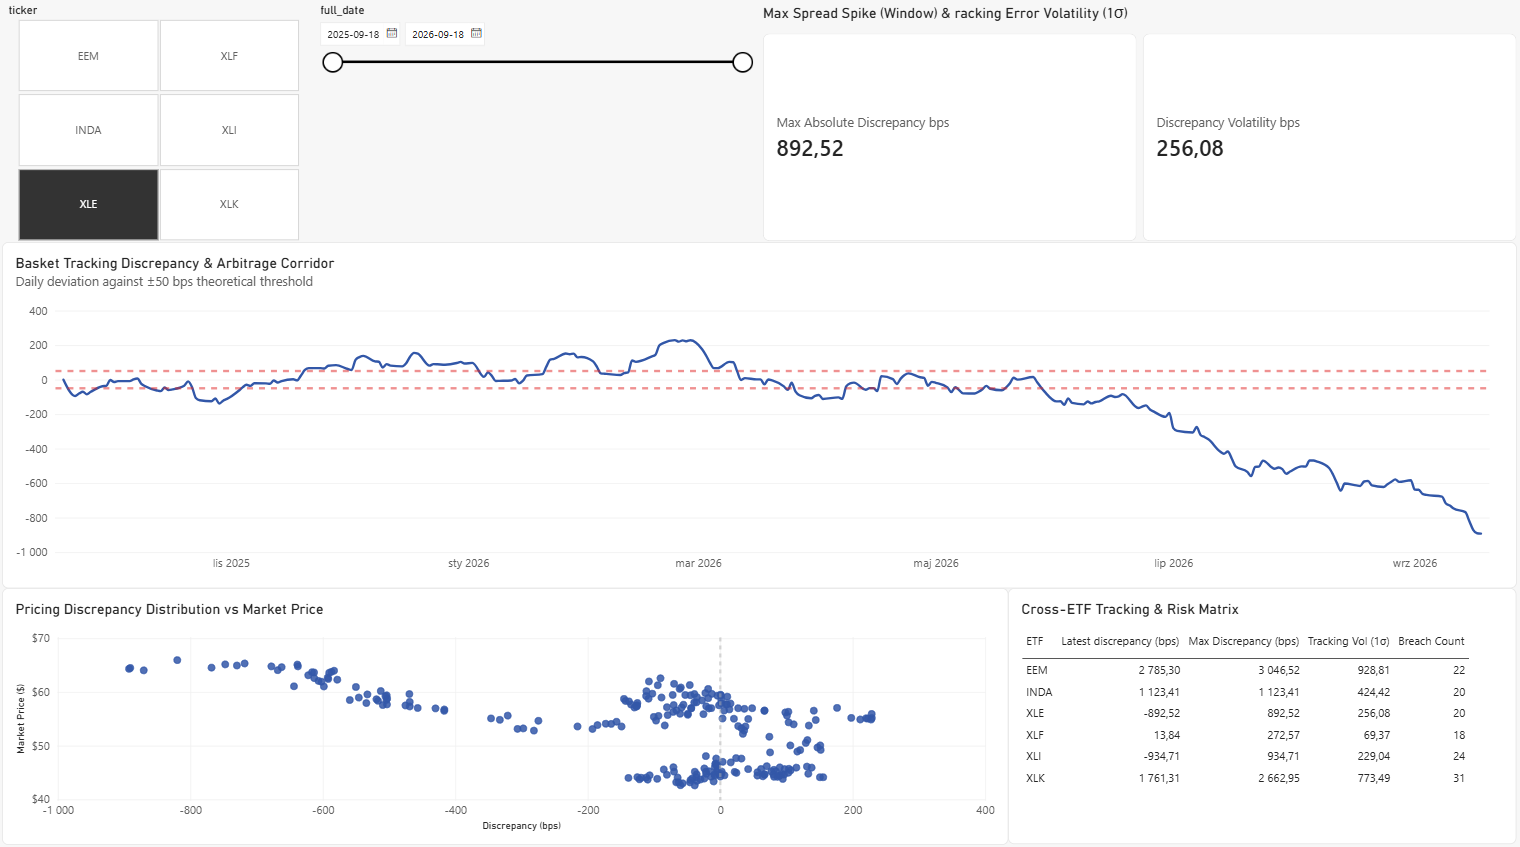

The page's visual inventory and layout, read from the dashboard file:
{"tool":"powerbi","page":{"name":"Basket Arbitrage & NAV Discrepancy","canvas":[1920,1080],"ordinal":1},"visuals":[{"type":"slicer","fields":{"Values":["dim_security.ticker"]},"box":[13.3,16,391,297.9],"z":0},{"type":"slicer","fields":{"Values":["dim_date.full_date"]},"box":[404.3,16,556,288.6],"z":1000},{"type":"lineChart","title":"Basket Tracking Discrepancy & Arbitrage Corridor","fields":{"Category":["dim_date.full_date"],"Y":["Avg(view_etf_market_analytics.discrepancy_bps)"]},"box":[13.3,313.9,1898,433.6],"z":2000},{"type":"cardVisual","title":"Max Spread Spike (Window) & racking Error Volatility (1σ)","fields":{"Data":["_Measures.Max Absolute Discrepancy bps","_Measures.Discrepancy Volatility bps"]},"box":[966.9,16,944.3,297.9],"z":3000},{"type":"scatterChart","title":"Pricing Discrepancy Distribution vs Market Price","fields":{"Category":["dim_date.full_date"],"X":["Sum(view_etf_market_analytics.discrepancy_bps)"],"Y":["Sum(view_etf_market_analytics.etf_market_price)"]},"box":[13.3,747.5,1260.9,321.9],"z":3001},{"type":"tableEx","title":"Cross-ETF Tracking & Risk Matrix","fields":{"Values":["dim_security.ticker","_Measures.Current Discrepancy bps","_Measures.Max Absolute Discrepancy bps","_Measures.Discrepancy Volatility bps","_Measures.Anomaly Breach Days"]},"box":[1274.2,747.5,637.1,320.5],"z":3002}]}

Visuals, with their boxes in screenshot pixels (x1, y1, x2, y2), scaled from the page's 1920x1080 canvas onto the 1520x847 screenshot:
slicer - dim_security.ticker: {"x1": 11, "y1": 13, "x2": 320, "y2": 246}
slicer - dim_date.full_date: {"x1": 320, "y1": 13, "x2": 760, "y2": 239}
"Basket Tracking Discrepancy & Arbitrage Corridor" lineChart: {"x1": 11, "y1": 246, "x2": 1513, "y2": 586}
"Max Spread Spike (Window) & racking Error Volatility (1σ)" cardVisual: {"x1": 765, "y1": 13, "x2": 1513, "y2": 246}
"Pricing Discrepancy Distribution vs Market Price" scatterChart: {"x1": 11, "y1": 586, "x2": 1009, "y2": 839}
"Cross-ETF Tracking & Risk Matrix" tableEx: {"x1": 1009, "y1": 586, "x2": 1513, "y2": 838}
